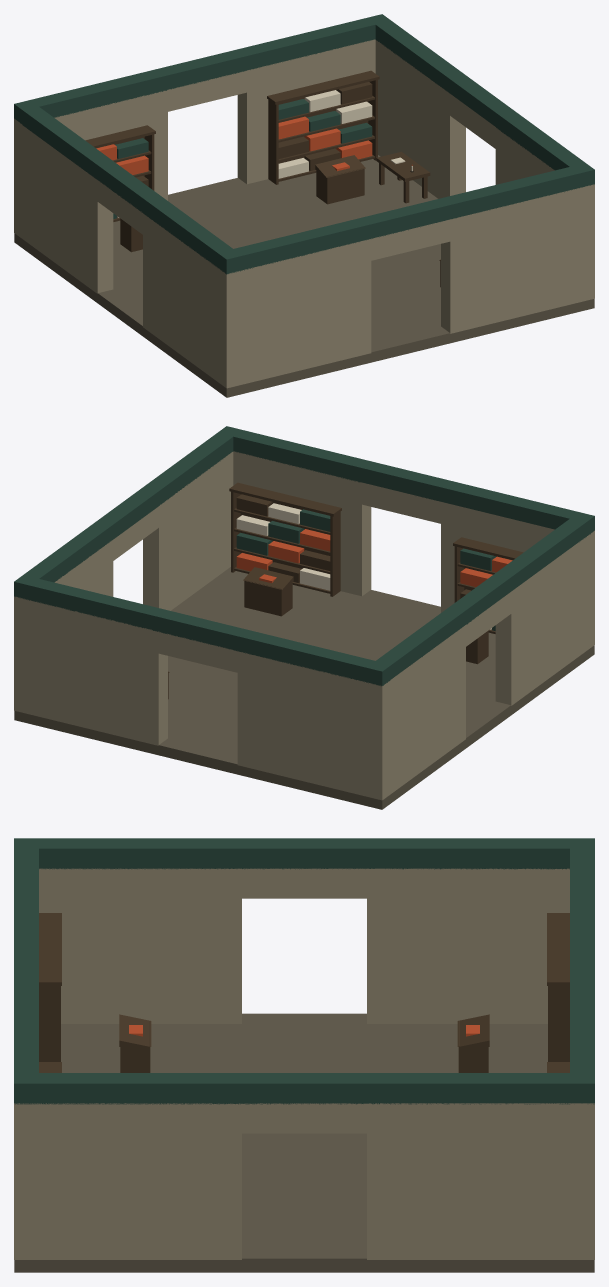
File: LateLibrary.fbx
The picture shows the model from 3 angles, top to bottom: view 1: azimuth 30°, elevation 25°; view 2: azimuth 150°, elevation 25°; view 3: azimuth 270°, elevation 25°; orthographic projection. The views are drawn at different scales.
Visible parts, largest first — view 1: LateLibrary; view 2: LateLibrary; view 3: LateLibrary.
Boxes of the visible parts, x1,y1,x2,y2 form: LateLibrary: (14, 14, 594, 397); LateLibrary: (14, 426, 594, 809); LateLibrary: (14, 838, 594, 1272).
Size of the model in its own units: 1202 by 432 by 1202.
Materials: 7 (7 with a texture image).
